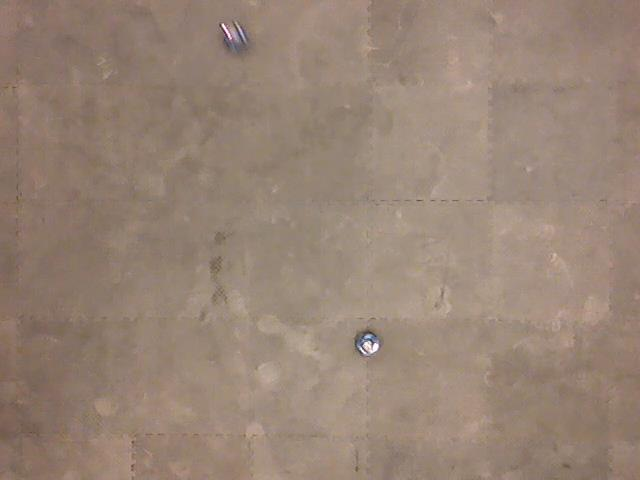Agent: (216, 16, 251, 56), (352, 329, 383, 359)
